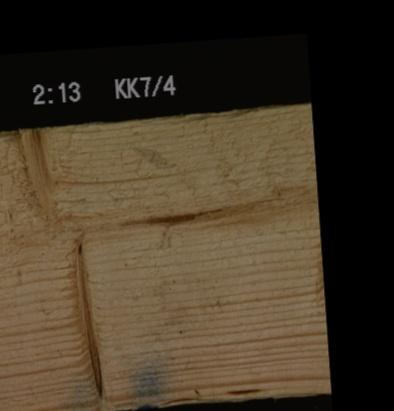split: (240, 182, 314, 205)
